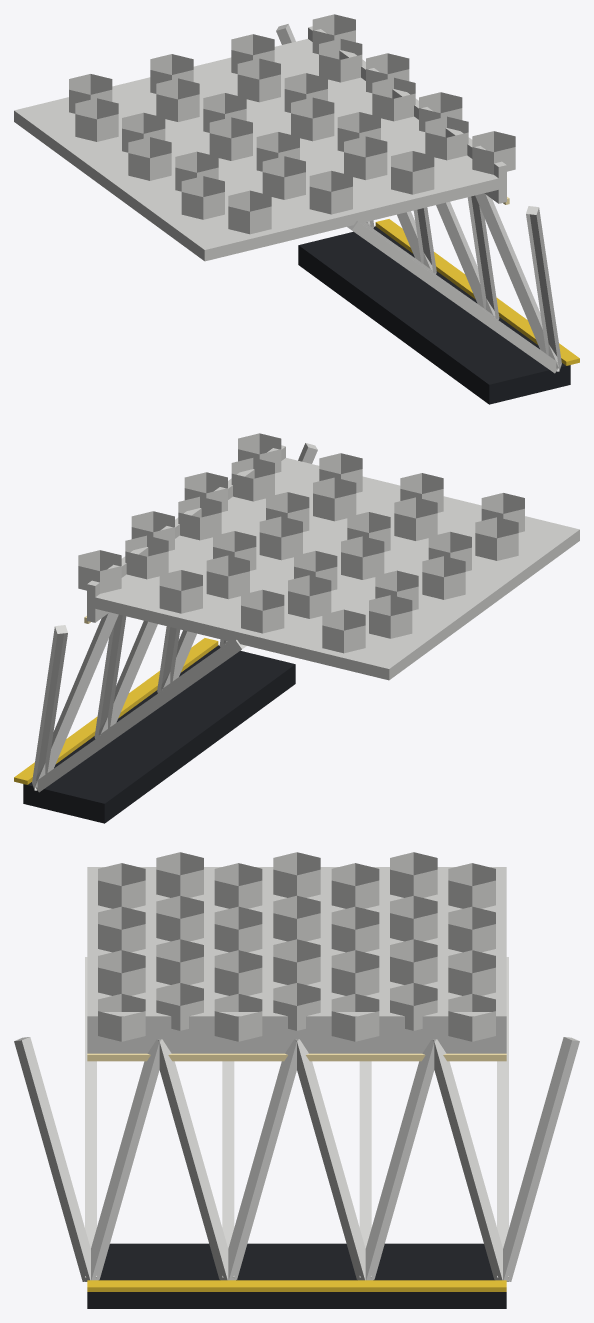
Rendered from elt_celda_m1.obj.
3 views of the same model, one above another, from view 1: azimuth 30°, elevation 25°; view 2: azimuth 150°, elevation 25°; view 3: azimuth 270°, elevation 25° (orthographic). The views are drawn at different scales.
Parts seen in each view (by area): view 1: elt_celda_m1; view 2: elt_celda_m1; view 3: elt_celda_m1.
Part boxes in pixels (bbox=[...]): elt_celda_m1: bbox=[14, 14, 579, 404]; elt_celda_m1: bbox=[14, 433, 579, 823]; elt_celda_m1: bbox=[14, 852, 579, 1308].
Size of the model in its own units: 27.7 by 17.4 by 32.95.
